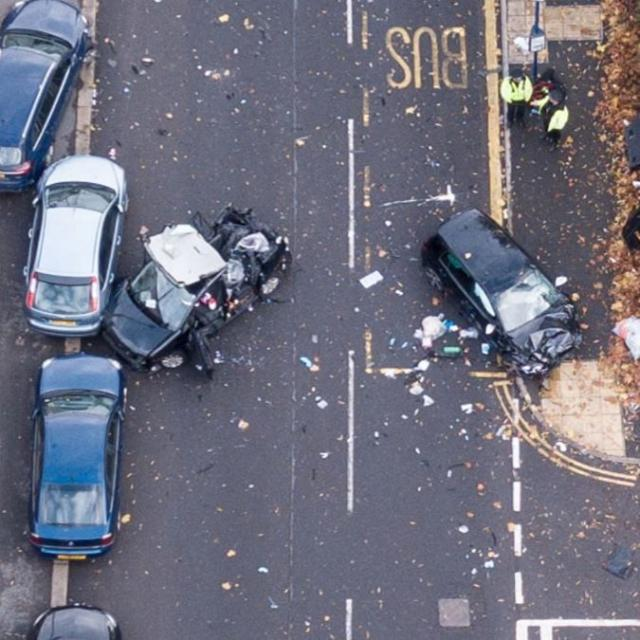traffic_incident: (101, 200, 294, 359), (420, 196, 582, 374)
